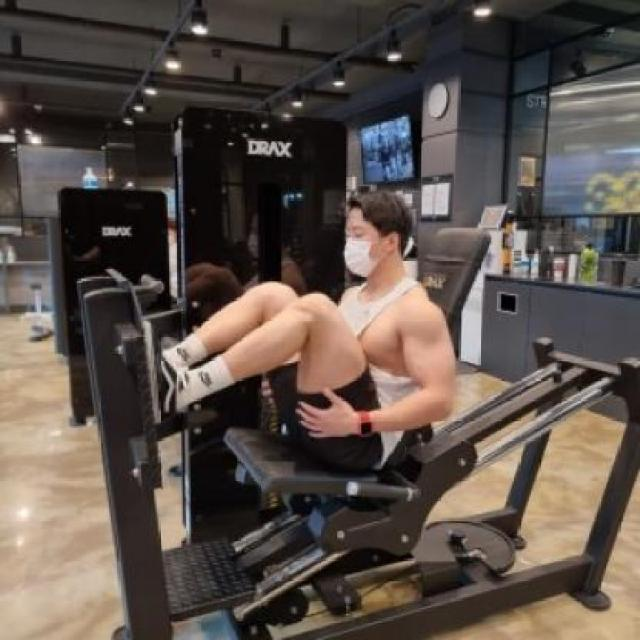leg press: (44, 98, 640, 639)
